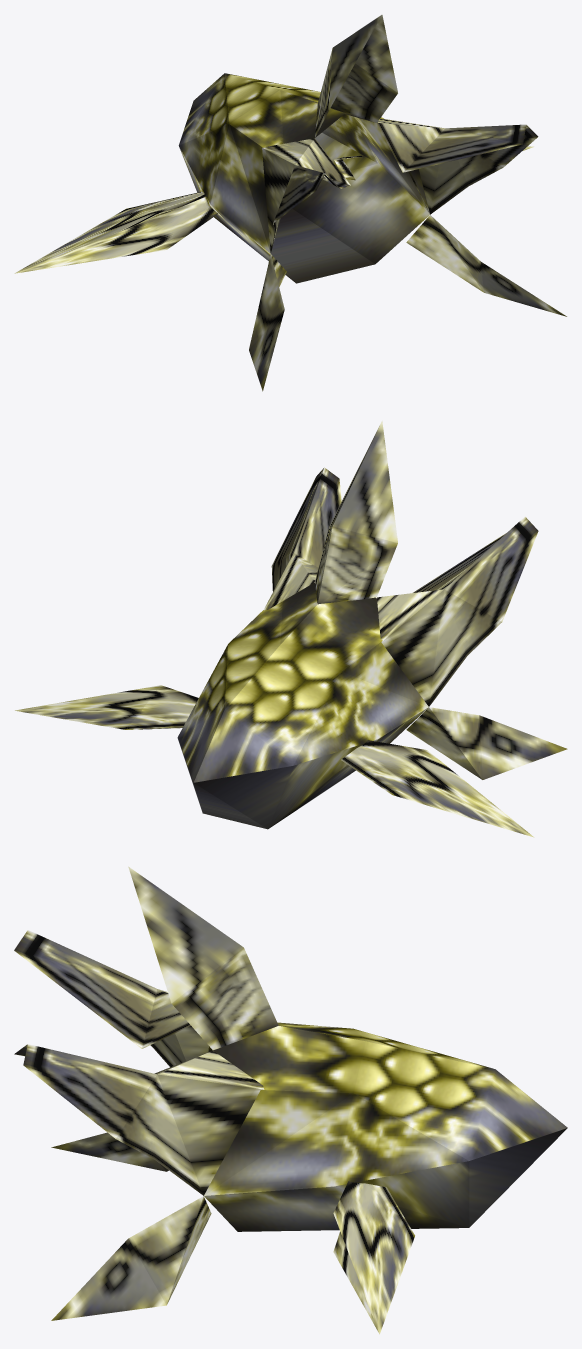
The model's file is twinblade104_5.obj.
The picture shows the model from 3 angles, top to bottom: view 1: azimuth 30°, elevation 25°; view 2: azimuth 150°, elevation 25°; view 3: azimuth 270°, elevation 25°; orthographic projection. The views are drawn at different scales.
Parts seen in each view (by area): view 1: MDL_cwdhkn04_5r; view 2: MDL_cwdhkn04_5r; view 3: MDL_cwdhkn04_5r.
Part boxes in pixels (x1=…): MDL_cwdhkn04_5r: x1=14, y1=15, x2=566, y2=391; MDL_cwdhkn04_5r: x1=15, y1=421, x2=567, y2=837; MDL_cwdhkn04_5r: x1=14, y1=866, x2=567, y2=1334.
Size of the model in its own units: 0.5675 by 0.3325 by 0.4487.
